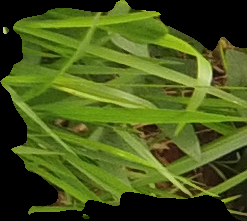grass: (1, 1, 246, 220)
